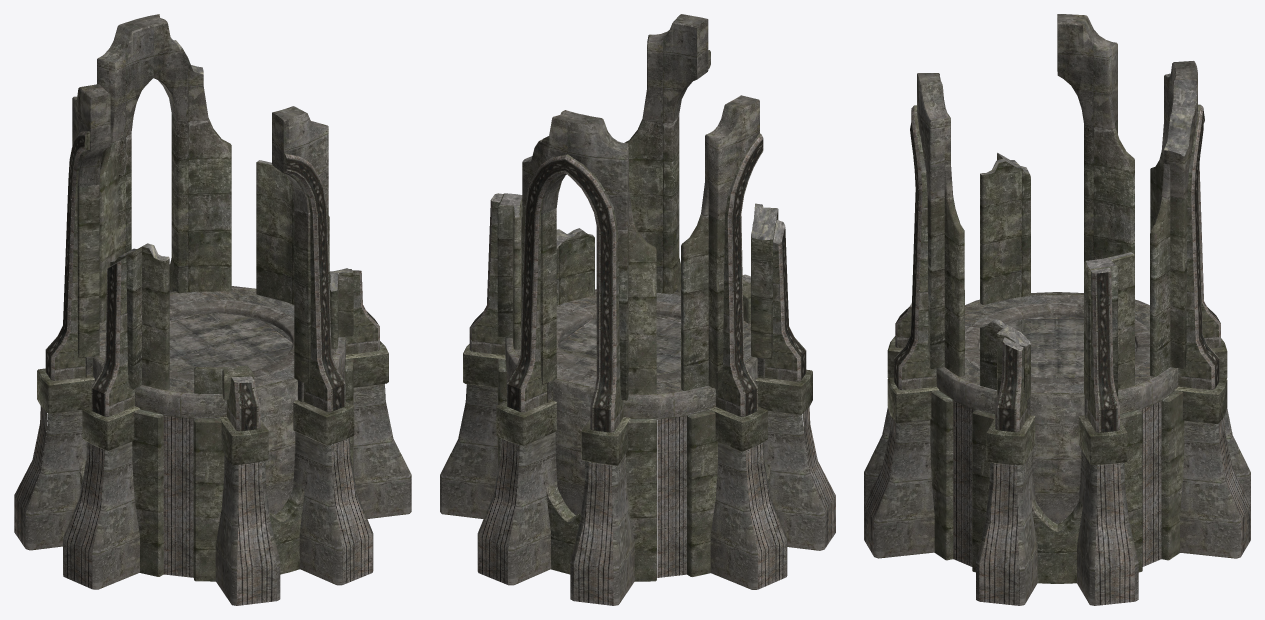
File: eso_gu14_StoneRuins2-transformed.glb
3 renders of one model, left to right at view 1: azimuth 30°, elevation 25°; view 2: azimuth 150°, elevation 25°; view 3: azimuth 270°, elevation 25°, orthographic.
Visible parts, largest first — view 1: default; view 2: default; view 3: default.
Part boxes in pixels (x1,y1,x2,y2): default: (14, 14, 411, 605); default: (440, 14, 835, 605); default: (864, 14, 1250, 605).
Bounding box in the file's own units: 27.35 × 35.22 × 27.35.
Materials: 7 (7 with a texture image).
